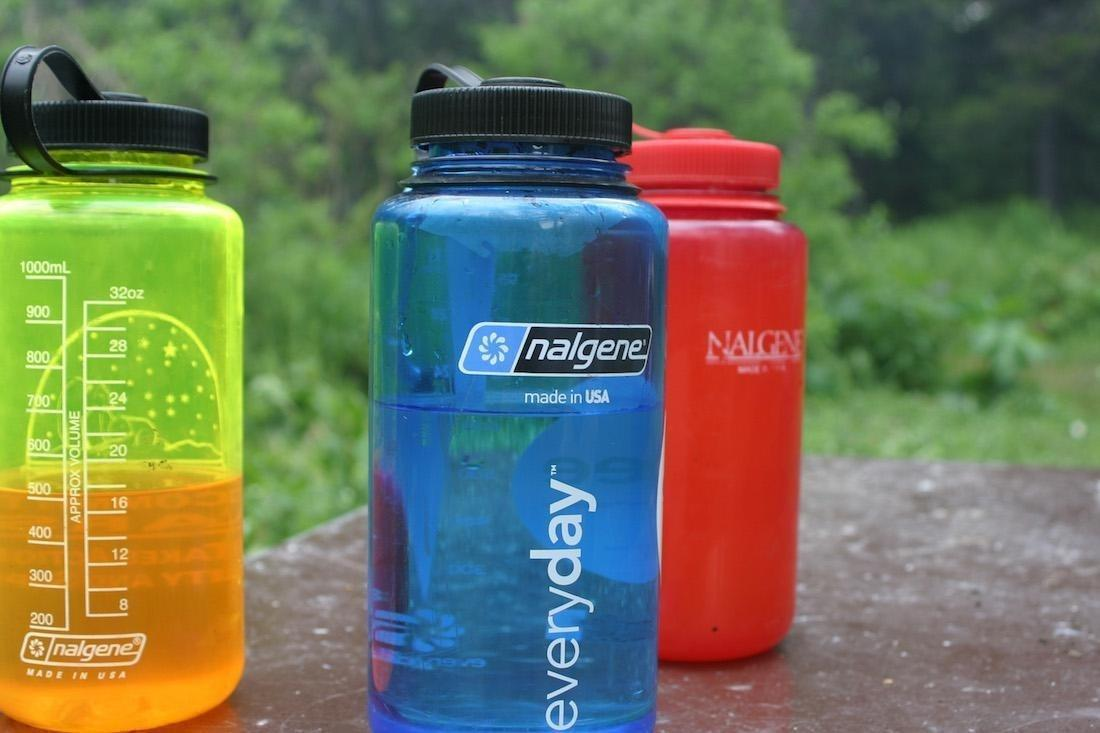gym bottle: (360, 70, 675, 732), (1, 77, 247, 732), (639, 128, 808, 669)
